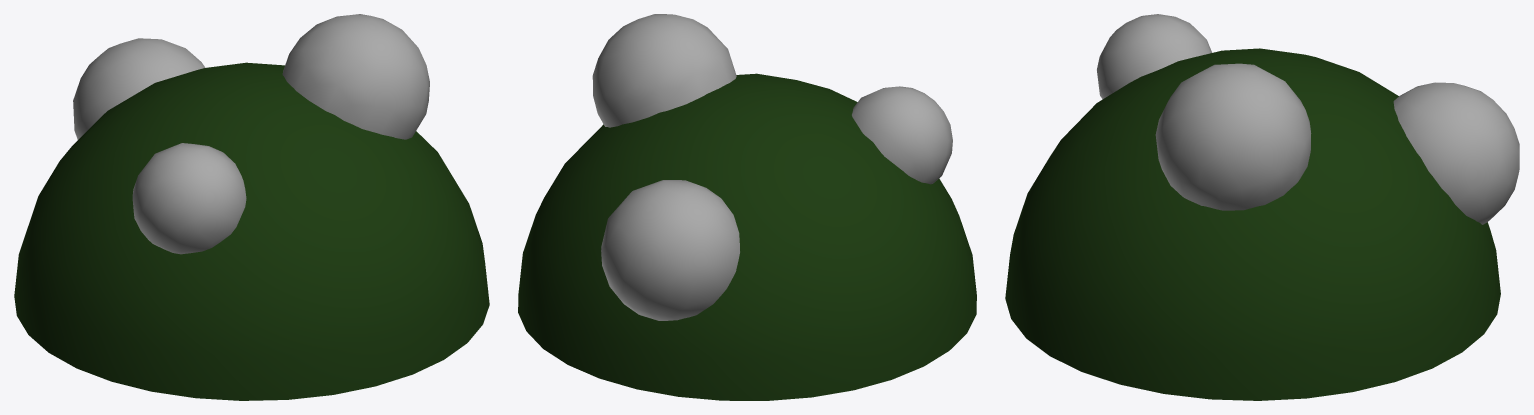
Rendered from plant_19.fbx.
The picture shows the model from 3 angles, left to right: view 1: azimuth 30°, elevation 25°; view 2: azimuth 150°, elevation 25°; view 3: azimuth 270°, elevation 25°; orthographic projection. The views are drawn at different scales.
Visible parts, largest first — view 1: plant_19; view 2: plant_19; view 3: plant_19.
Part boxes in pixels (bbox=[...]): plant_19: bbox=[14, 14, 489, 400]; plant_19: bbox=[518, 14, 976, 400]; plant_19: bbox=[1005, 14, 1519, 400].
Size of the model in its own units: 0.3924 by 0.4072 by 0.2397.
